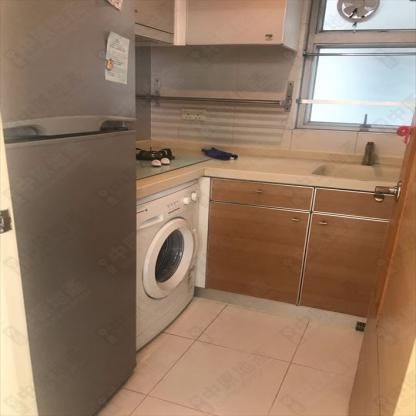Cupboard: (204, 178, 398, 317)
Exhaust Fan: (335, 0, 379, 22)
Faucet: (360, 136, 380, 167)
Sink: (310, 163, 404, 184)
Stove: (138, 143, 213, 182)
Washing Machine: (136, 178, 198, 352)
